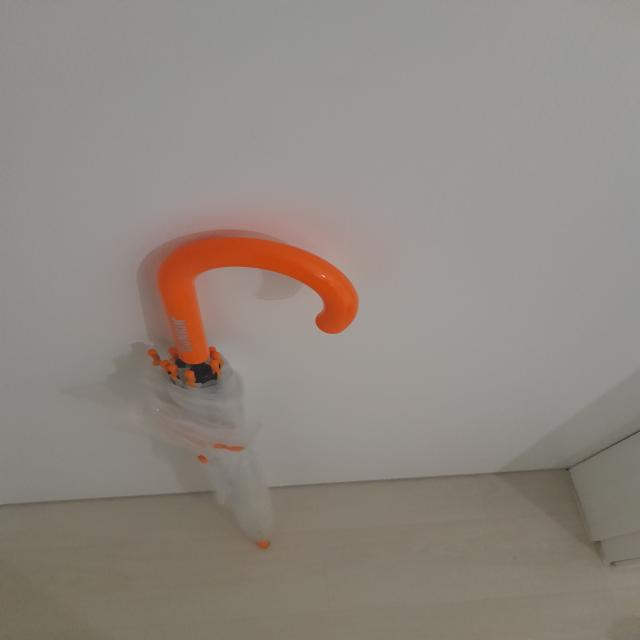umbrella: (136, 235, 354, 548)
